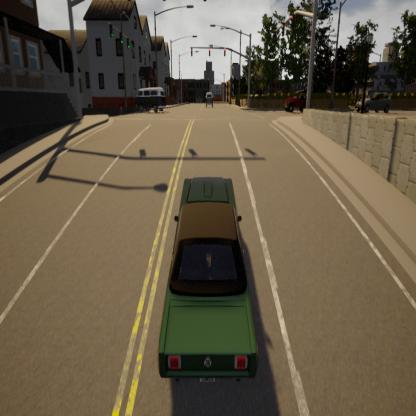Cars: (159, 174, 259, 390), (356, 88, 390, 116), (136, 85, 166, 112), (285, 93, 304, 113), (204, 88, 215, 111)
